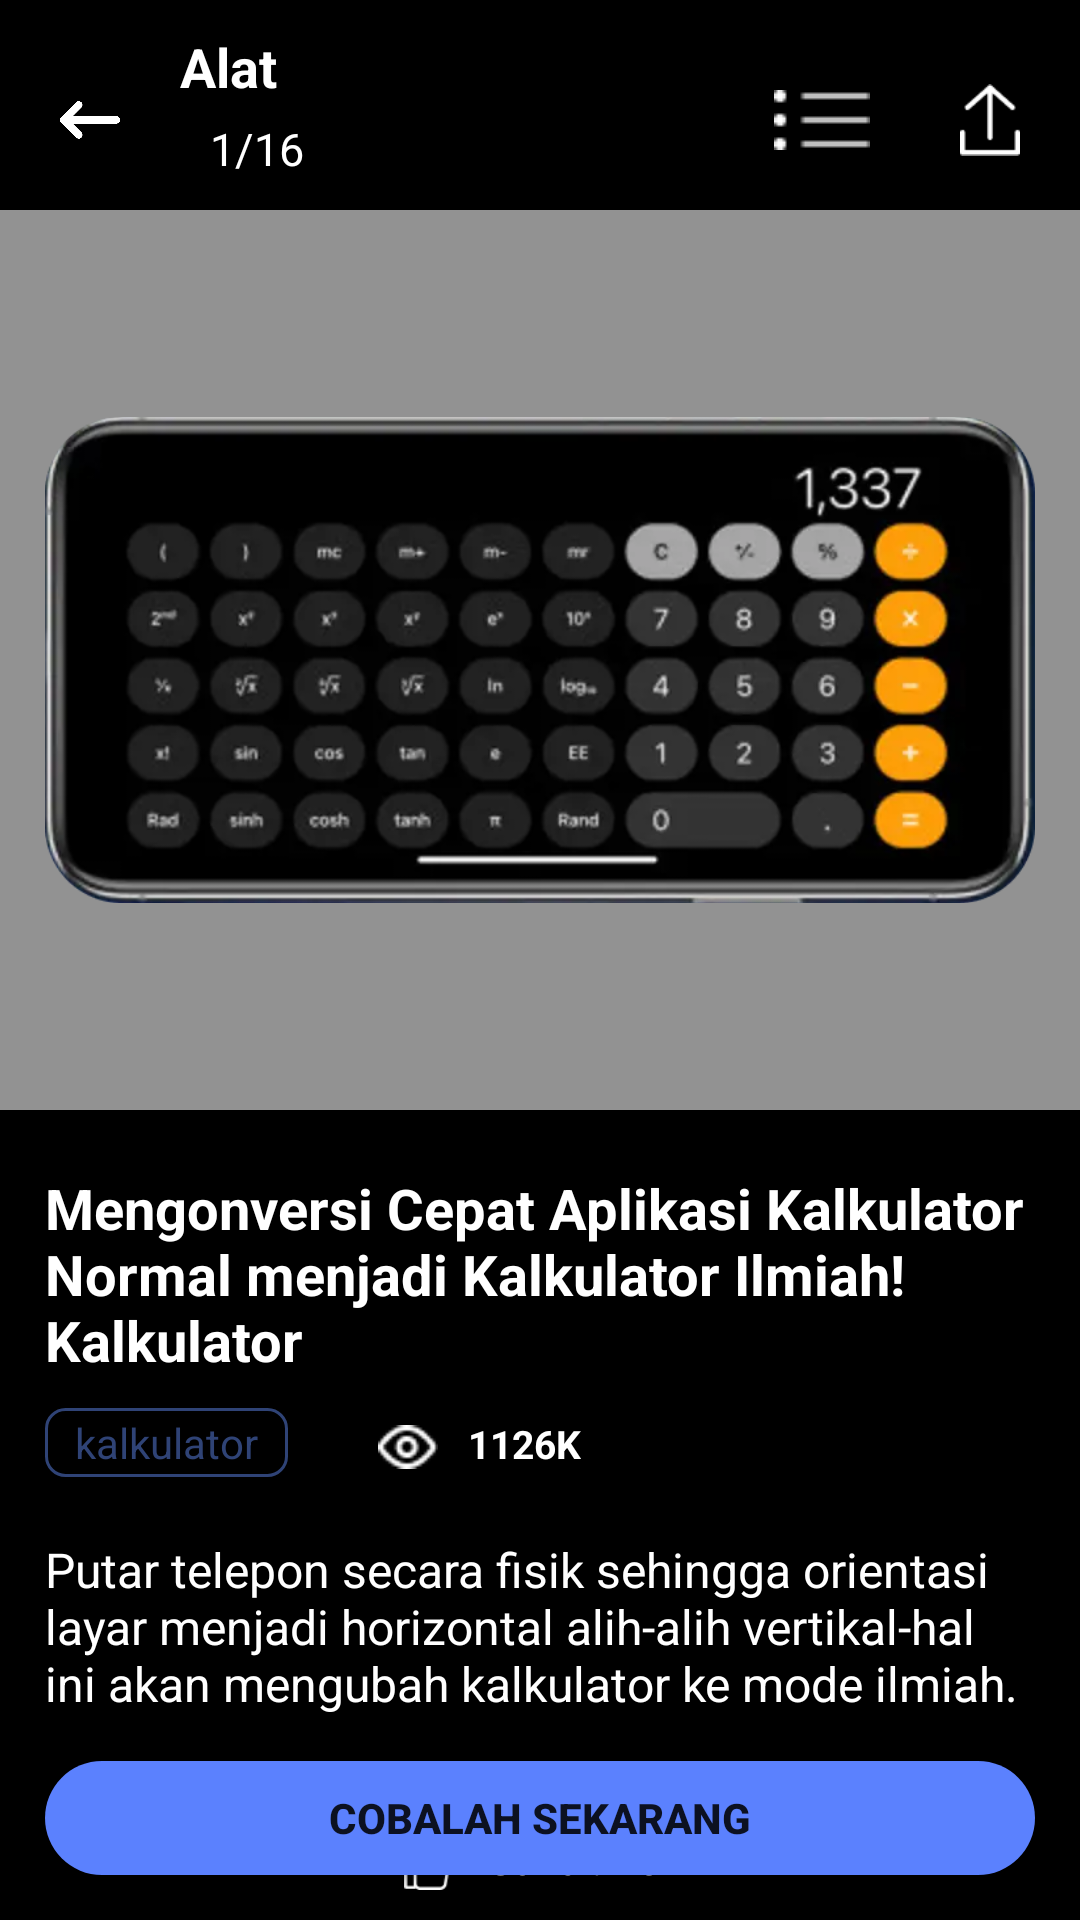

Named icons in this screenshot (1080x1920) and their centers, point (x, y):
setting backvector: point (90, 120)
setting eye: point (408, 1447)
setting menu: point (822, 120)
setting upload: point (990, 120)
